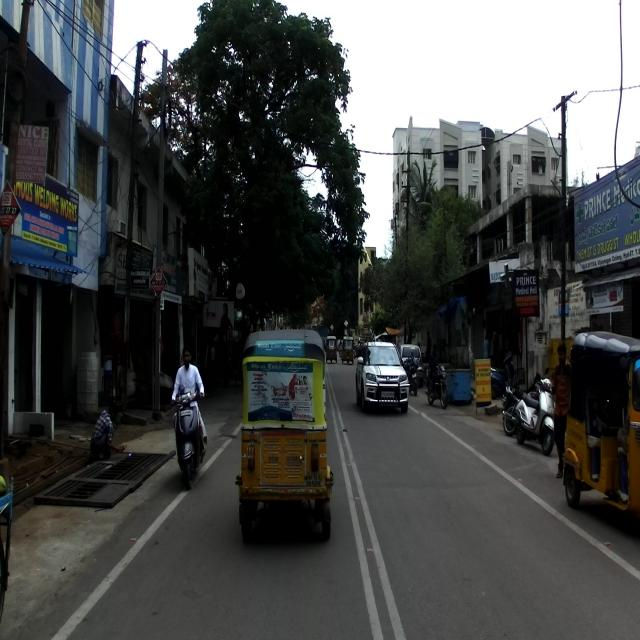autorickshaw: (235, 328, 334, 545), (560, 330, 638, 529)
car: (355, 340, 410, 412)
motorcycle: (502, 365, 550, 437), (426, 364, 448, 410)
scooter: (513, 377, 561, 456), (170, 389, 206, 490), (489, 357, 517, 398)
